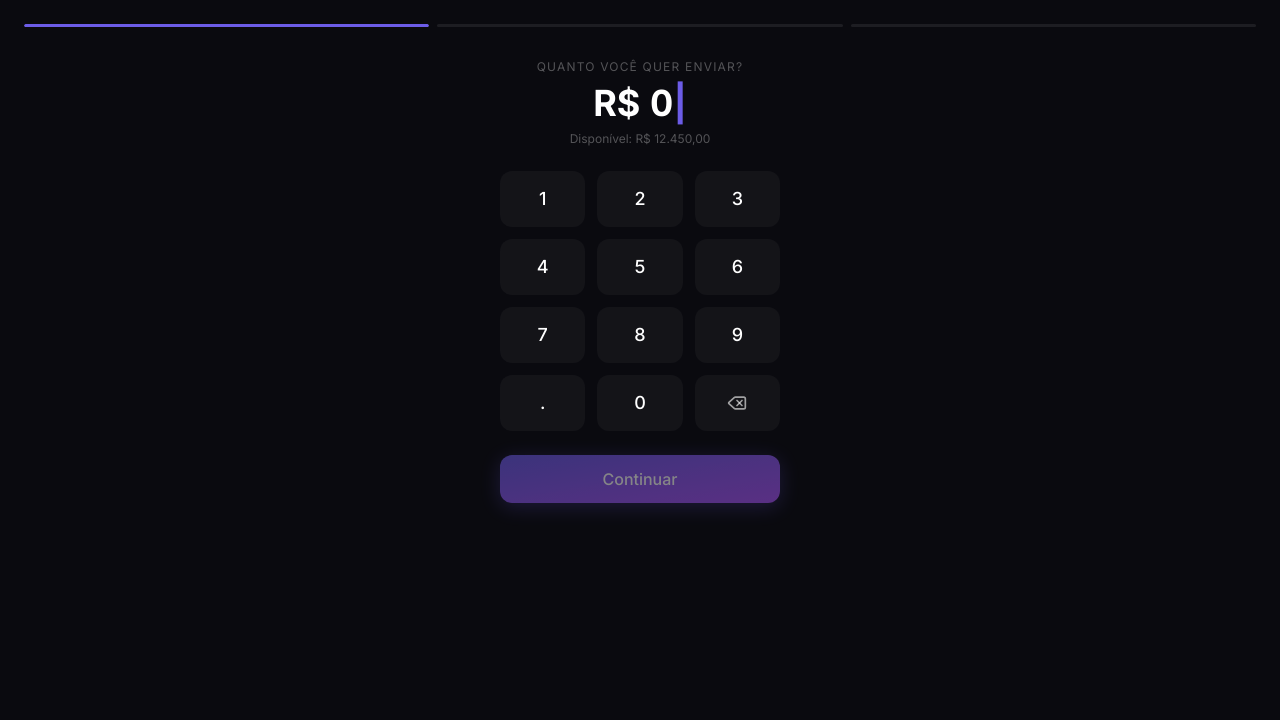
Test: Transfer Wizard › prevents transfer exceeding balance
Expected: the text "Disponível: R$ 12.450,00" is shown, [570,131,710,147]
Step 1. Click the button "9" → (737, 335), box [695,307,780,363]
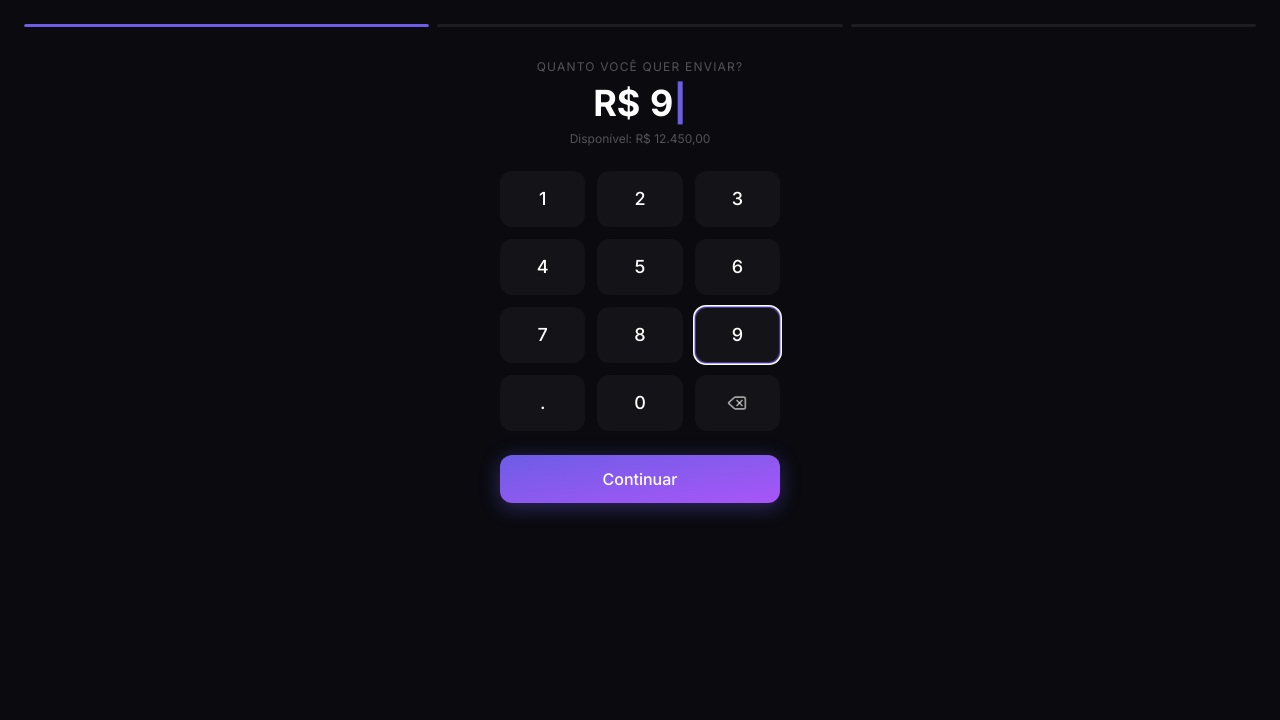
Step 2. Click the button "9" → (737, 335), box [695,307,780,363]
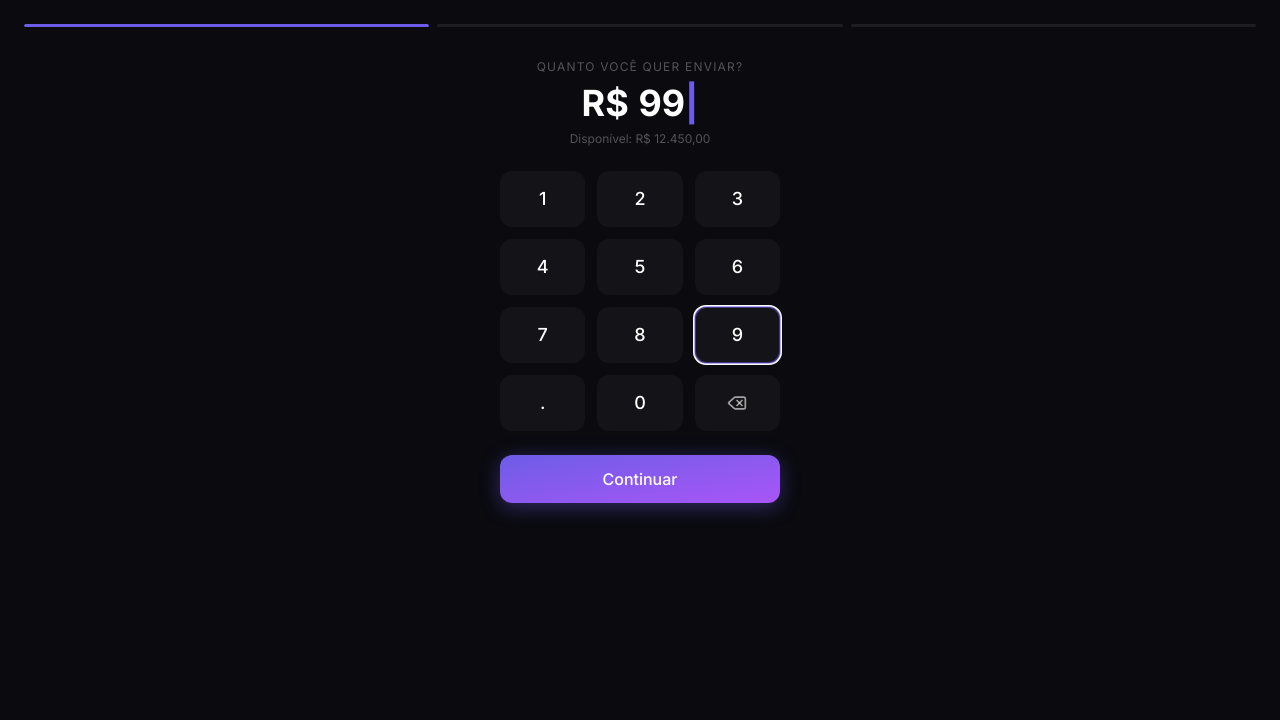
Step 3. Click the button "9" → (737, 335), box [695,307,780,363]
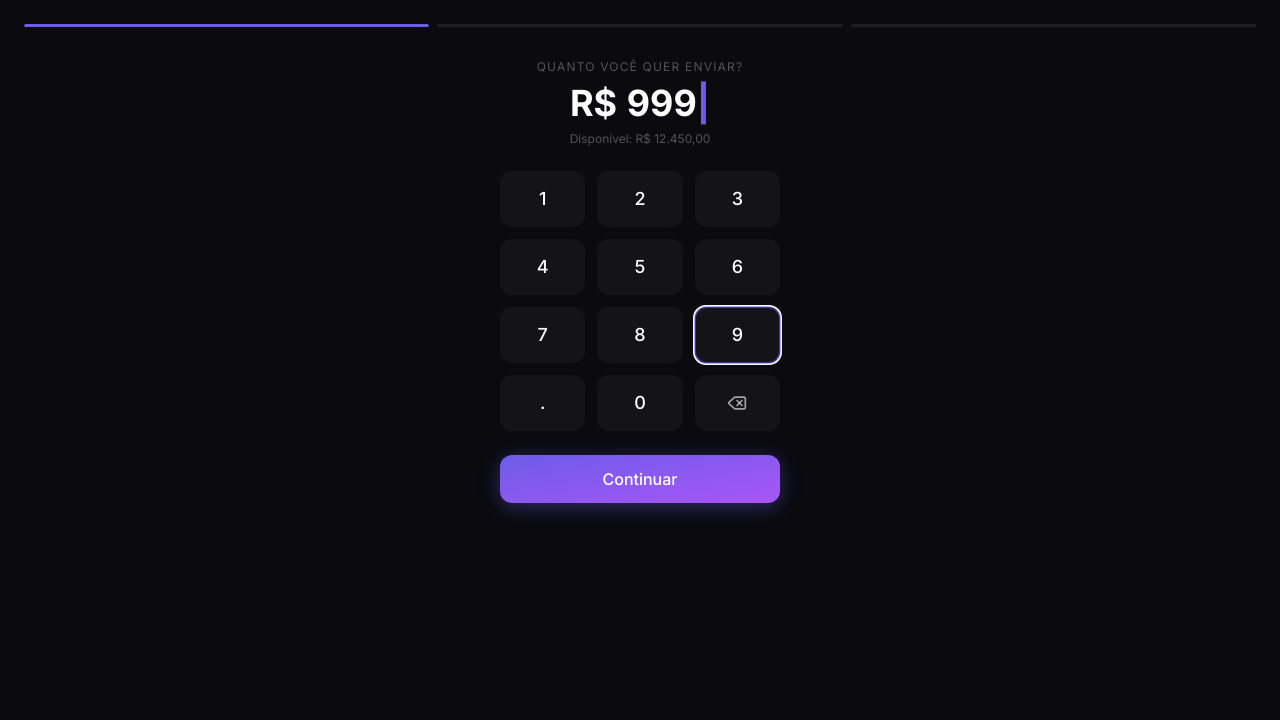
Step 4. Click the button "9" → (737, 335), box [695,307,780,363]
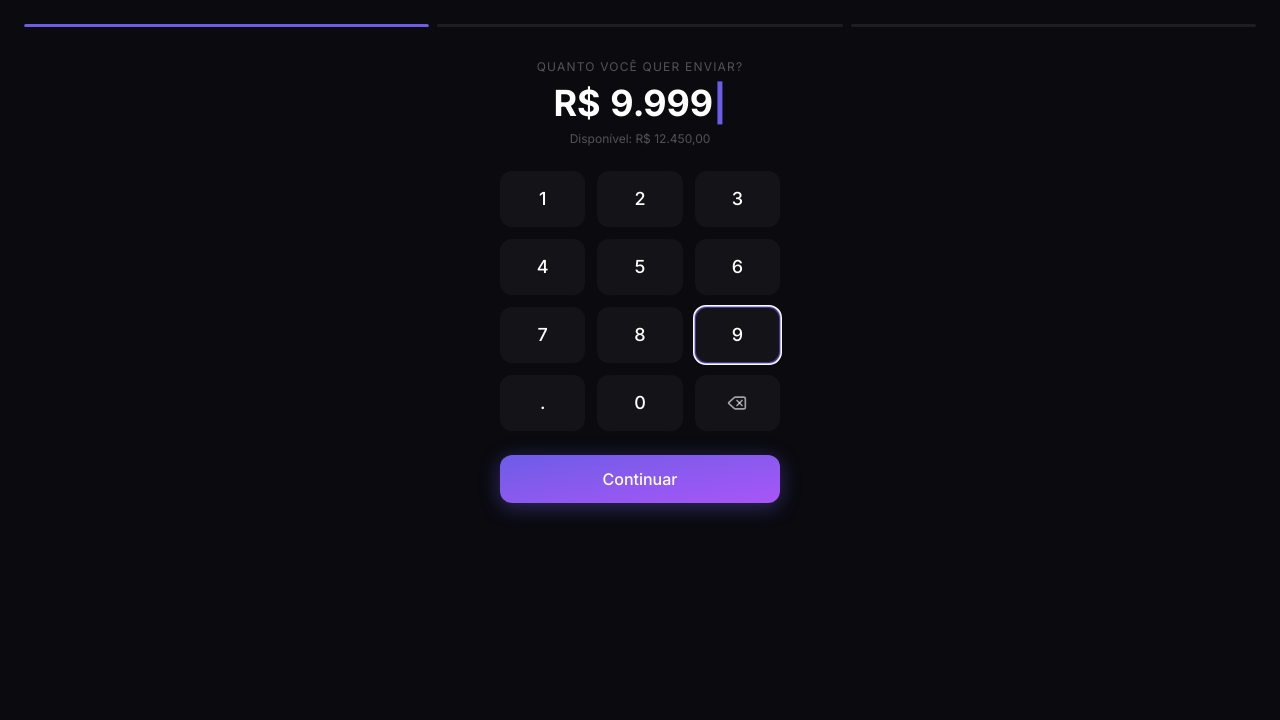
Step 5. Click the button "9" → (737, 335), box [695,307,780,363]
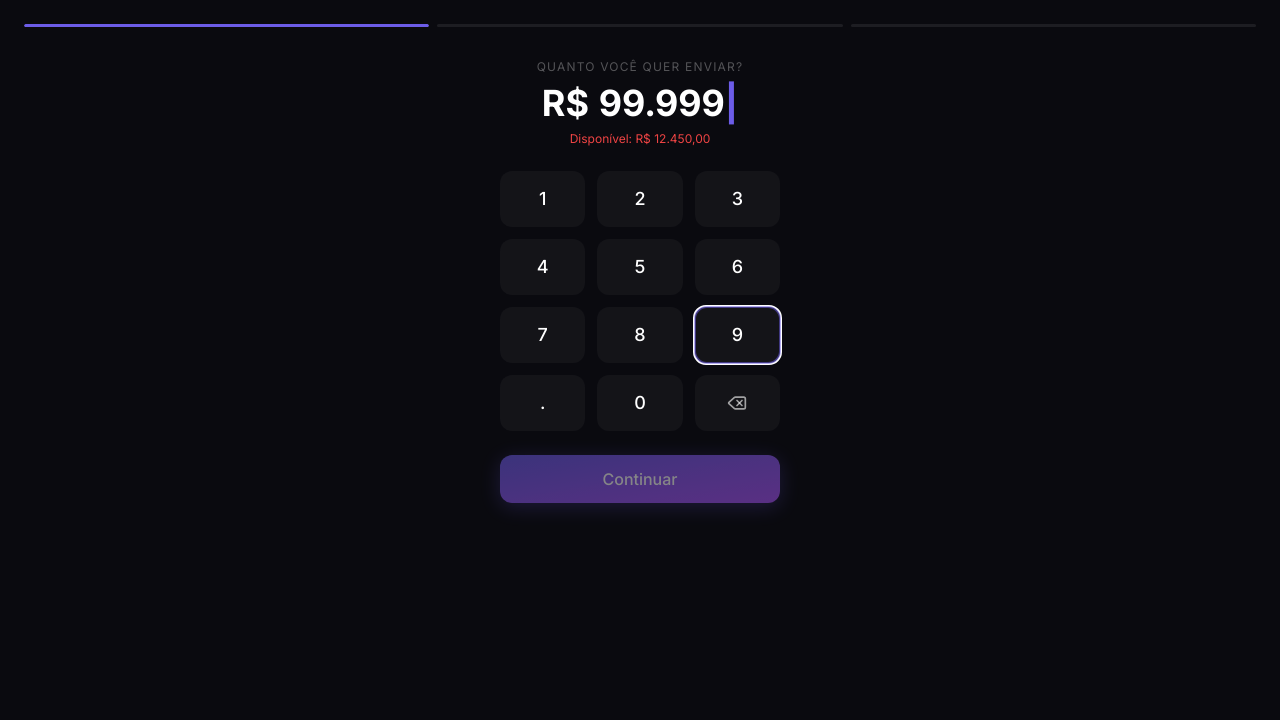
Expected: the button "Continuar" is disabled, [500,455,780,503]
